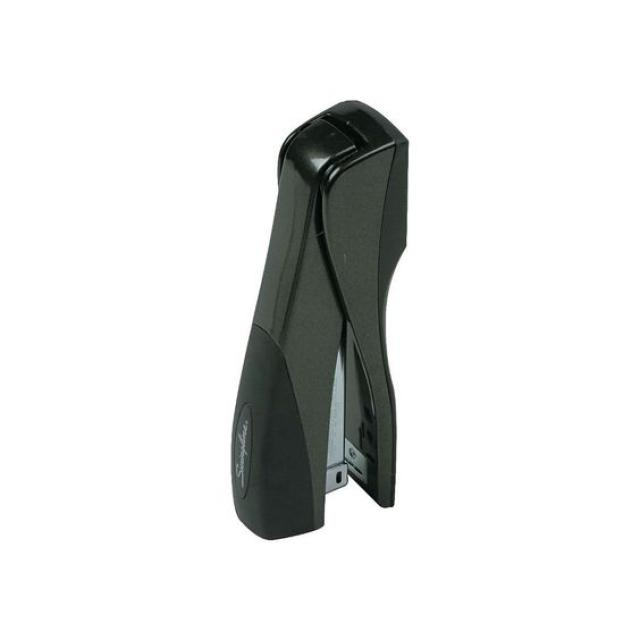Stapler: (189, 86, 447, 554)
